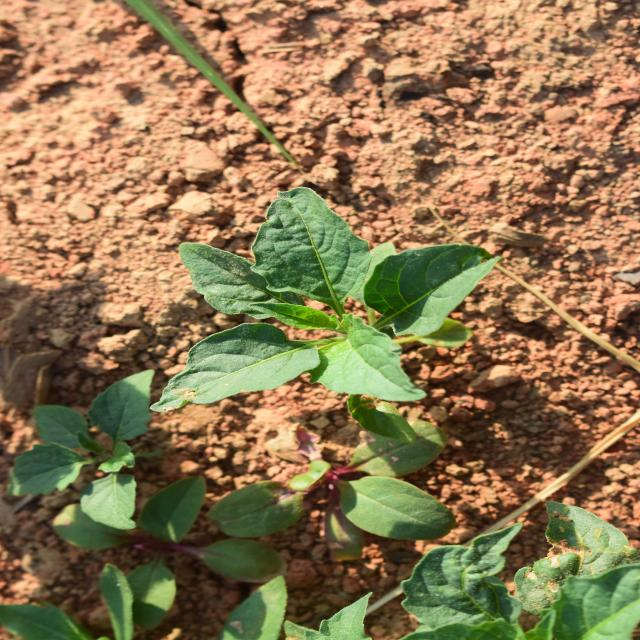Black_nightshade: (232, 150, 434, 509)
